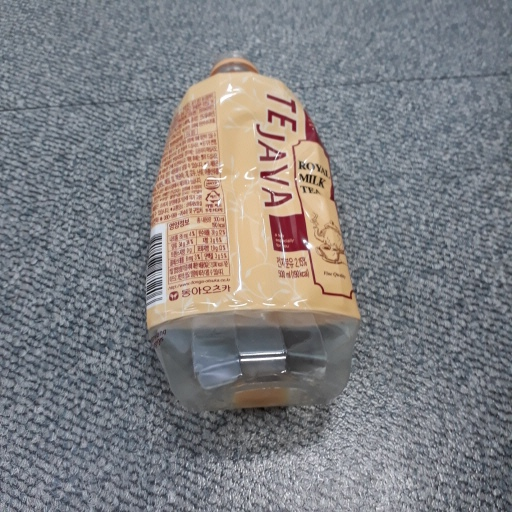Plastic_0: (141, 48, 361, 418)
